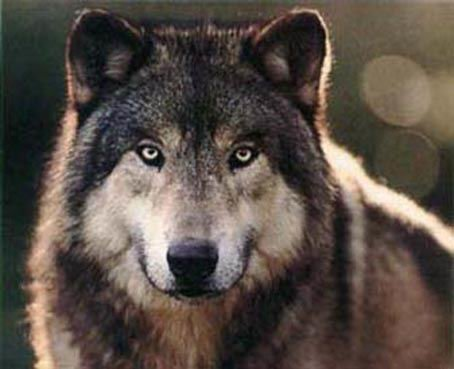Lobo: (44, 9, 366, 336)
